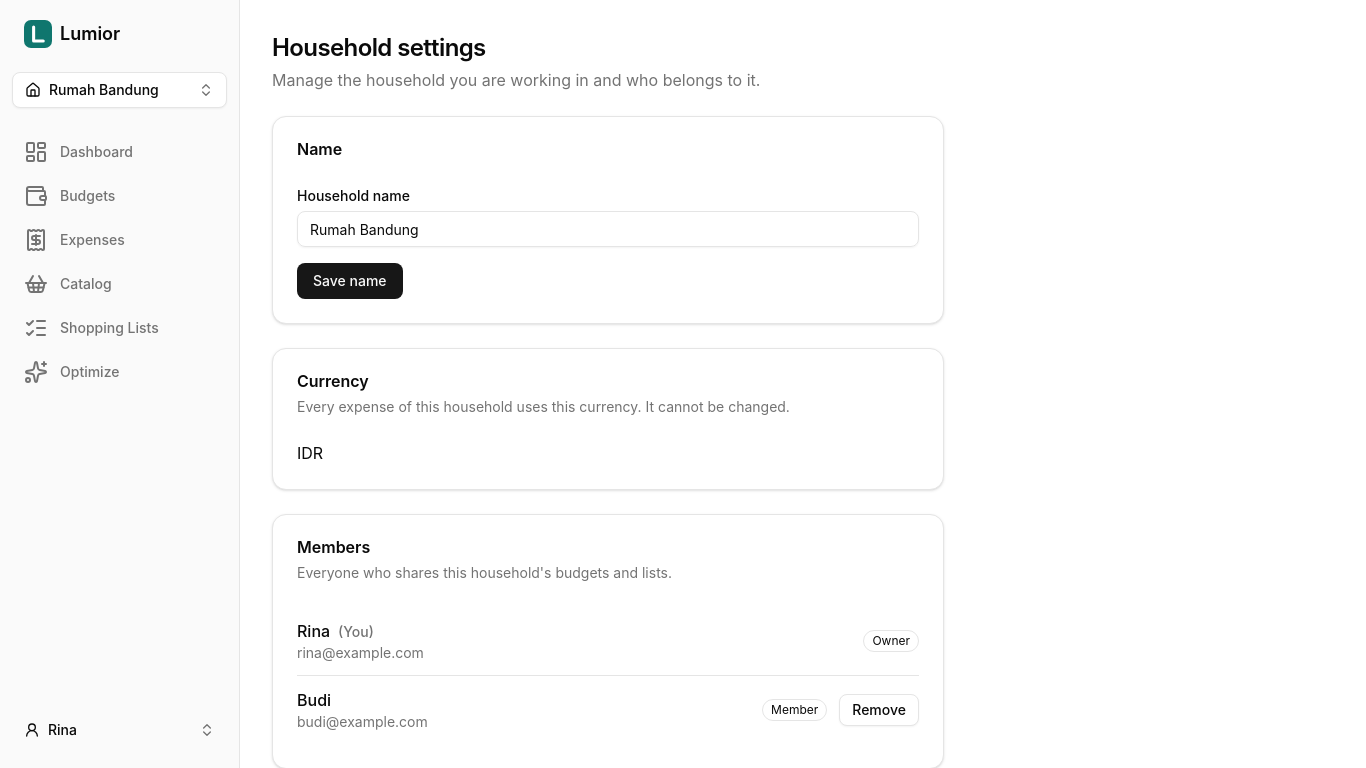
Test: household settings › the owner removes a member after confirming
The image size is (1366, 768).
Expected: the text "Budi" is shown, [297,690,331,710]
Click the button with aria-label "Remove Budi". click: (879, 710)
box: [839,694,919,726]
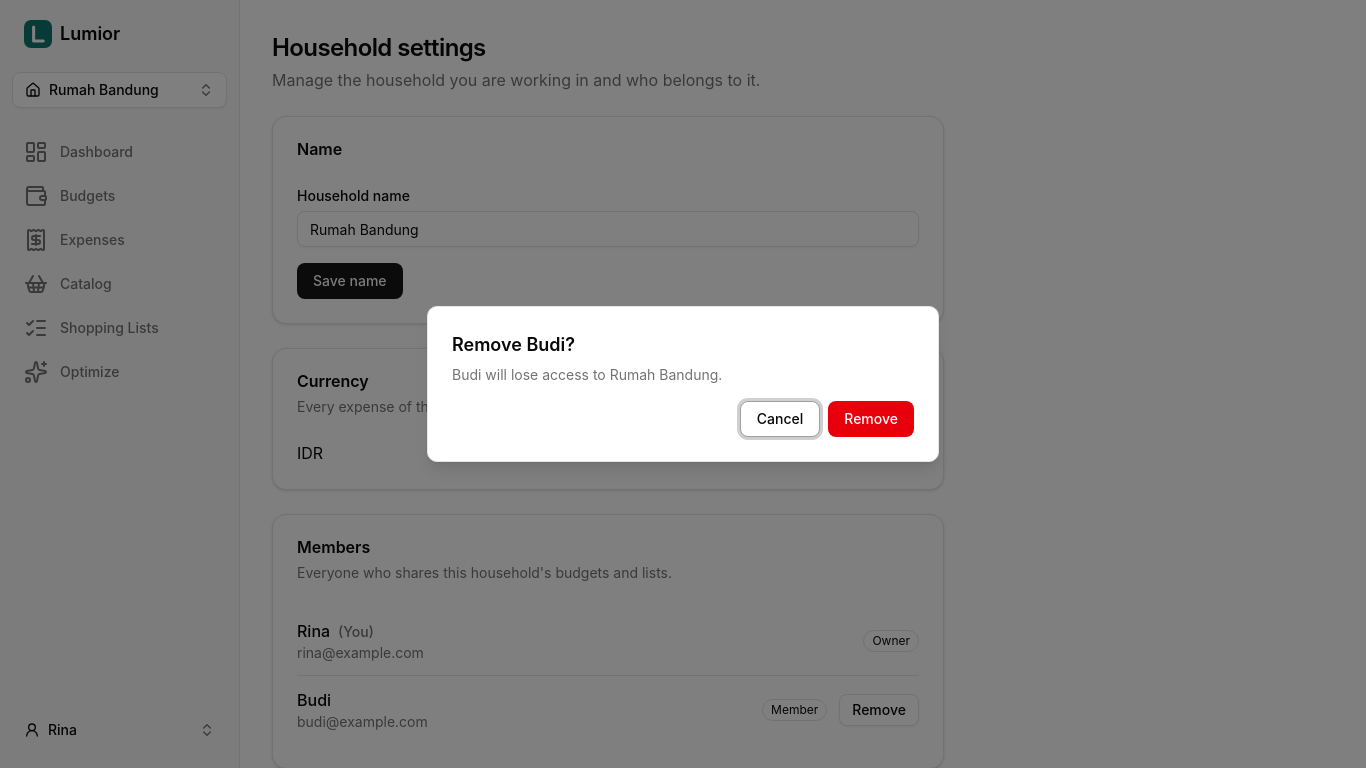
Click the button "Remove". click: (871, 419)
box: [828,401,914,437]
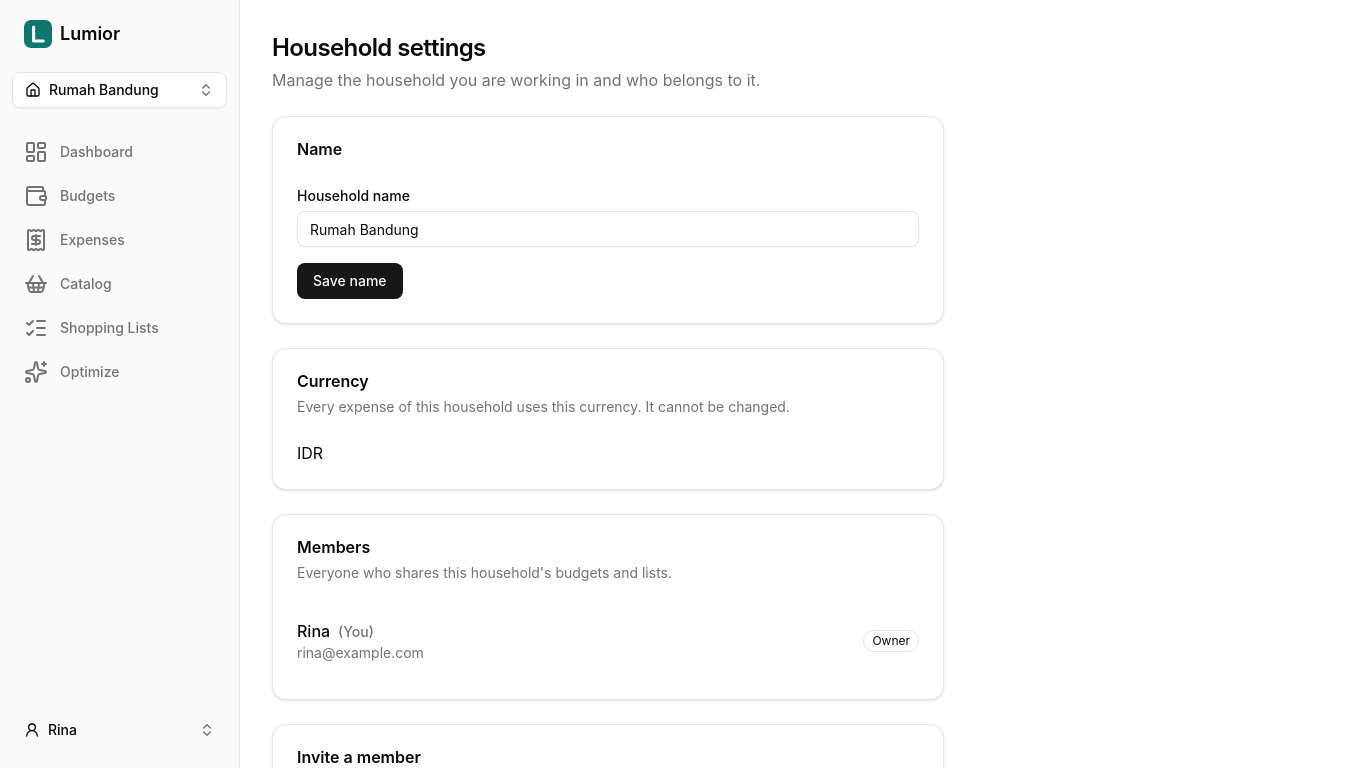
Now the text "Budi" is gone
